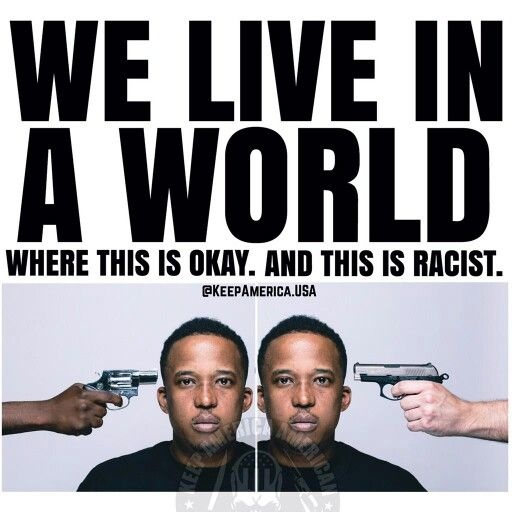pistol: (354, 353, 448, 404), (82, 361, 161, 409)
